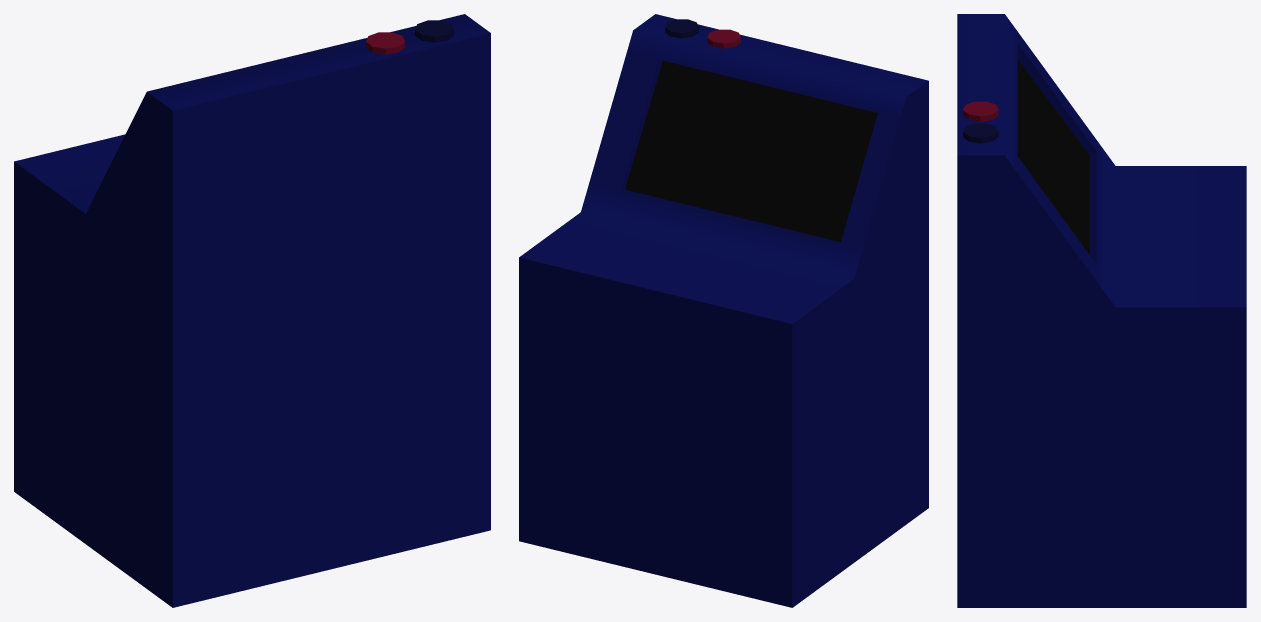
File: COLORsmallcomputerMesh.fbx
3 renders of one model, left to right at view 1: azimuth 30°, elevation 25°; view 2: azimuth 150°, elevation 25°; view 3: azimuth 270°, elevation 25°, orthographic. The views are drawn at different scales.
Visible parts, largest first — view 1: polySurface4; view 2: polySurface4; view 3: polySurface4.
Part boxes in pixels (box(x1,y1,x2,y2)): polySurface4: box(14, 14, 490, 607); polySurface4: box(519, 14, 928, 607); polySurface4: box(957, 14, 1246, 607).
Bounding box in the file's own units: 0.6154 × 0.9304 × 0.5321.
